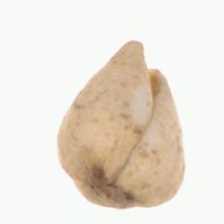L1: (122, 39, 165, 96), (74, 183, 145, 209)
L2: (57, 41, 186, 210)
